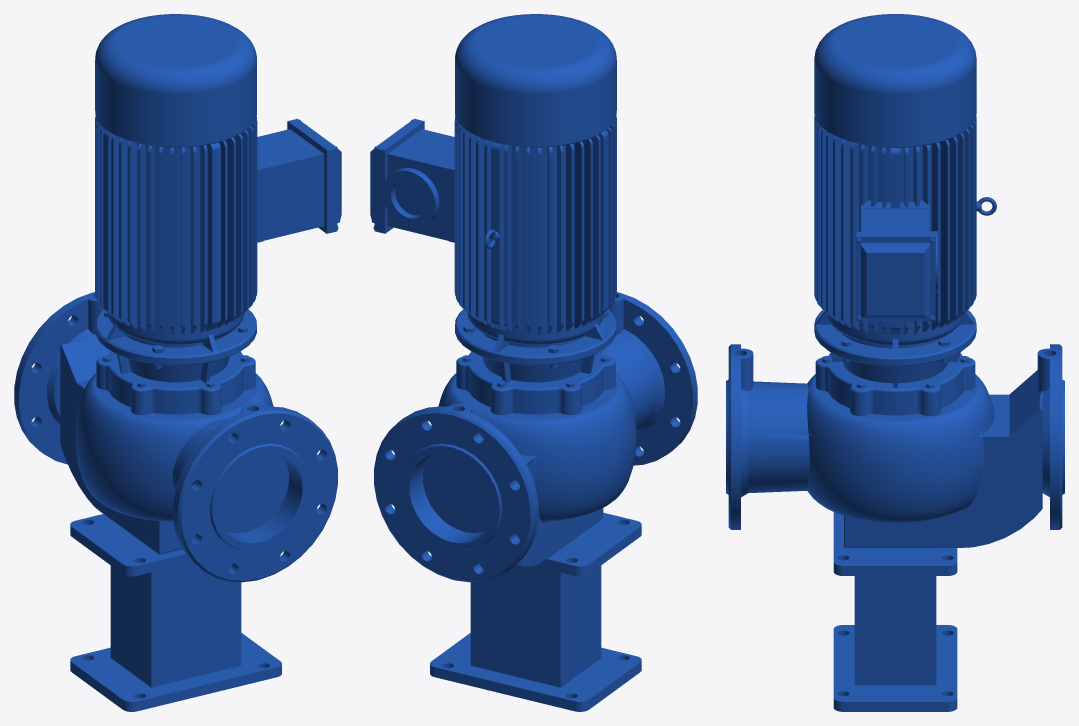
3 views of the same model, side by side, from view 1: azimuth 30°, elevation 25°; view 2: azimuth 150°, elevation 25°; view 3: azimuth 270°, elevation 25° (orthographic).
Visible parts, largest first — view 1: 水泵.SLDPRT; view 2: 水泵.SLDPRT; view 3: 水泵.SLDPRT.
Boxes of the visible parts, bbox=[...] form: 水泵.SLDPRT: bbox=[14, 14, 341, 711]; 水泵.SLDPRT: bbox=[370, 14, 697, 711]; 水泵.SLDPRT: bbox=[726, 14, 1064, 711].
Bounding box in the file's own units: 0.4237 × 1.07 × 0.52.
